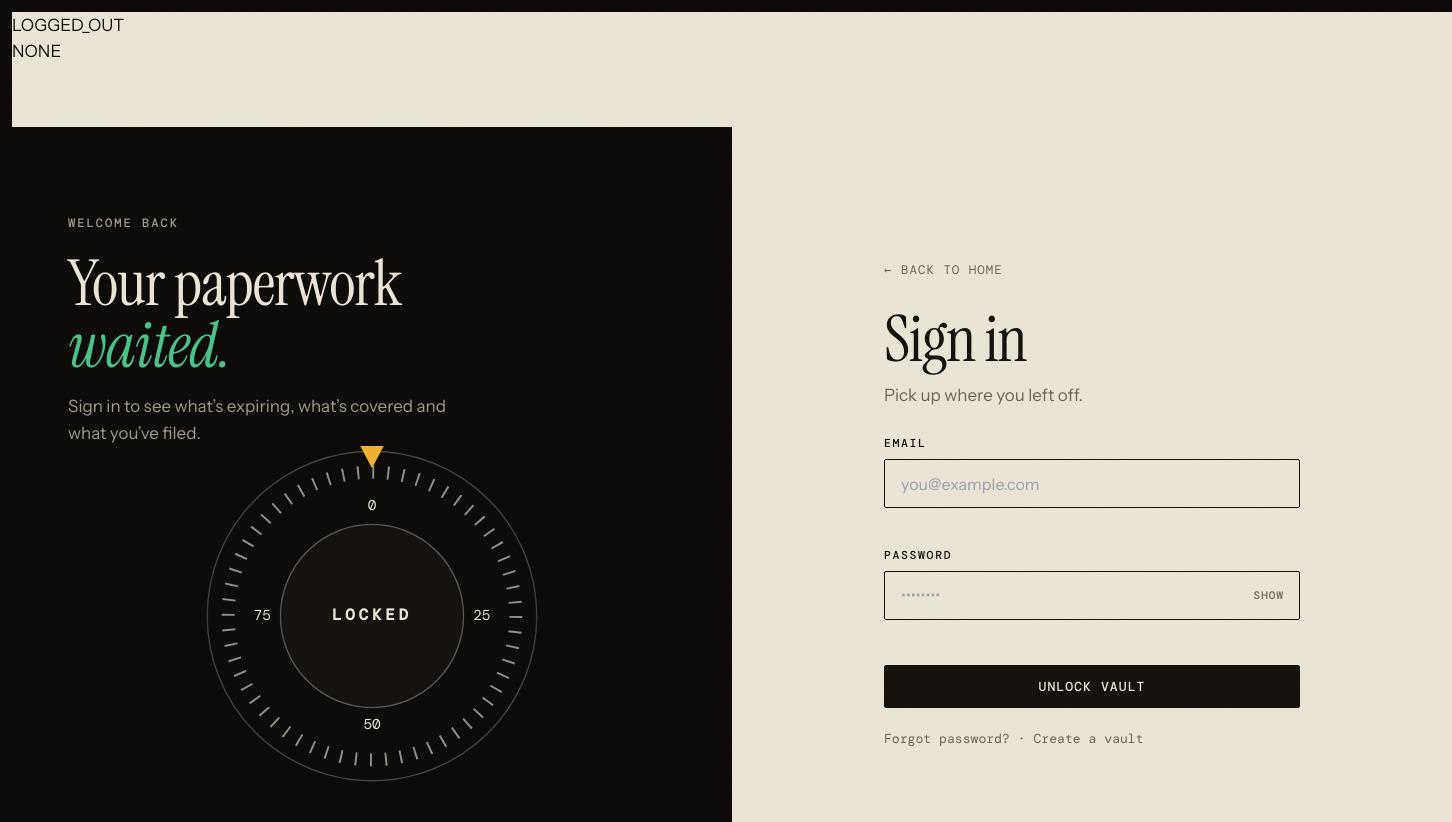
Scenario: Authentication Flow & Verification (Email & Password) › Checklist 1: Login with never-registered email must fail and demand registration first
# Enter never-registered email
Type "ghost-unregistered@example.com" into the field with placeholder "you@example.com".
click(1092, 484); type("ghost-unregistered@example.com")  # box [884, 459, 1300, 508]
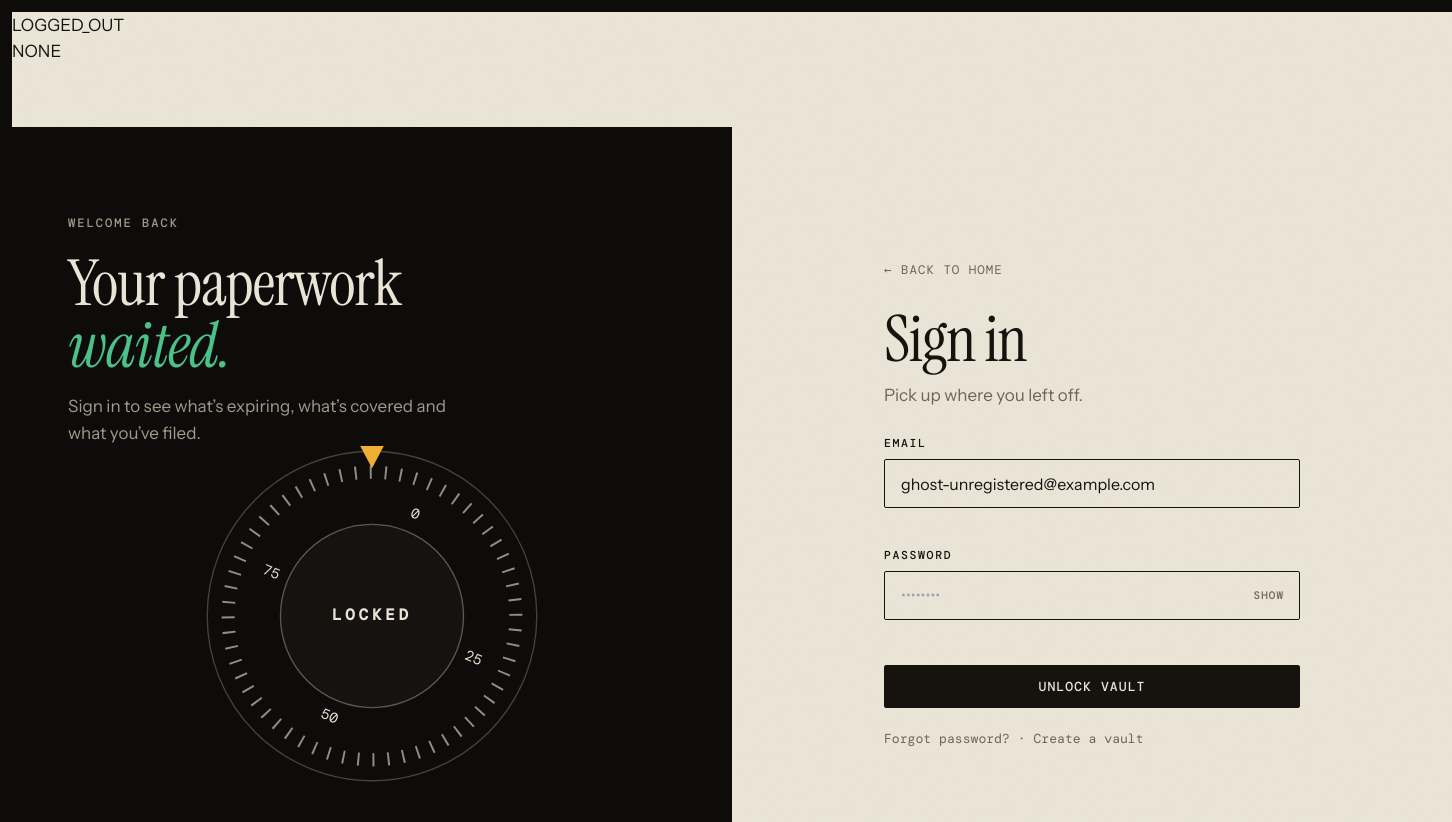
Type "SecretPass123" into the password field with placeholder "••••••••".
click(1092, 595); type("SecretPass123")  # box [884, 571, 1300, 620]
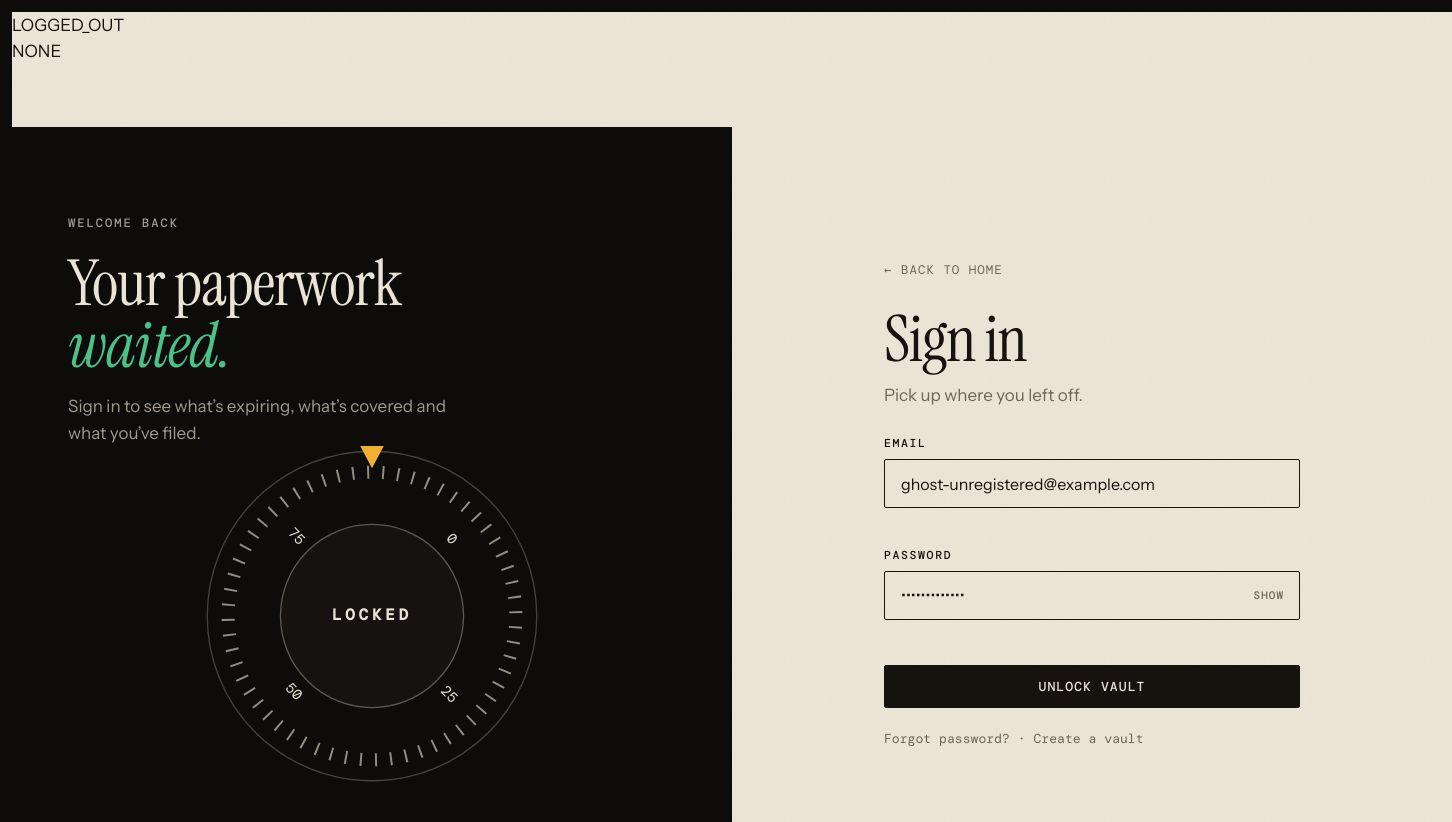
Click the button "Unlock vault".
click(1092, 686)  # box [884, 665, 1300, 708]
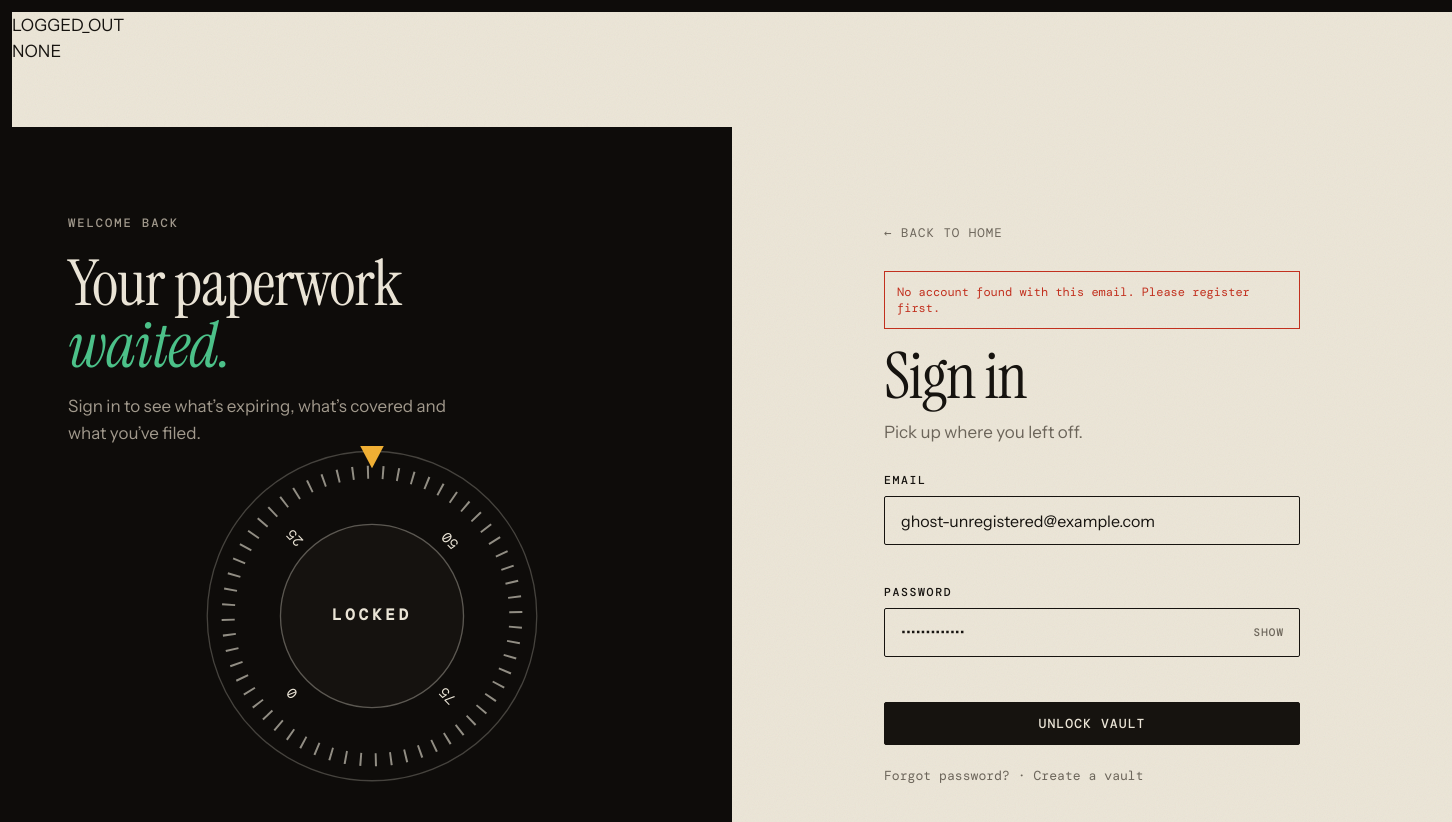
Expected: the text with test id "auth-status" reads "LOGGED_OUT", [12, 15, 124, 35]
Expected: the message reads "No account found with this email. Please register first.", [897, 284, 1250, 316]
